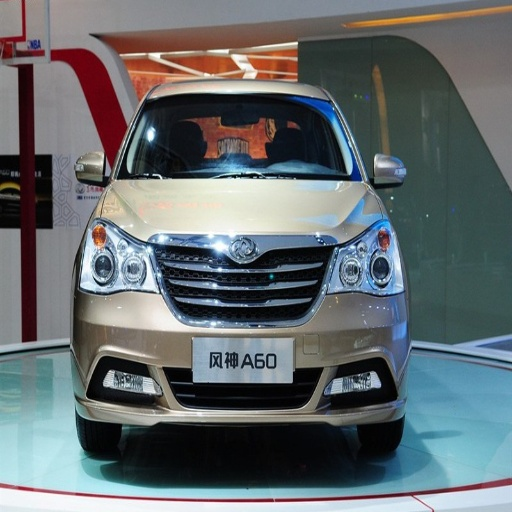front_bumper: (73, 235, 406, 427)
front_right_light: (82, 220, 153, 293)
hood: (104, 180, 381, 245)
left_mirror: (372, 154, 407, 188)
trunk: (429, 13, 509, 115)
